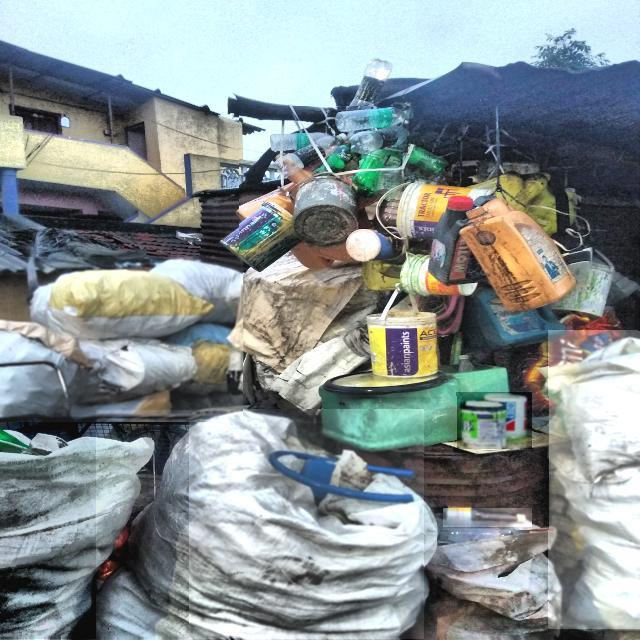anorganik: (240, 107, 638, 396), (96, 410, 423, 638), (0, 417, 189, 638), (0, 257, 243, 422), (549, 332, 640, 629), (437, 530, 556, 638), (458, 393, 532, 448), (443, 509, 532, 526)
